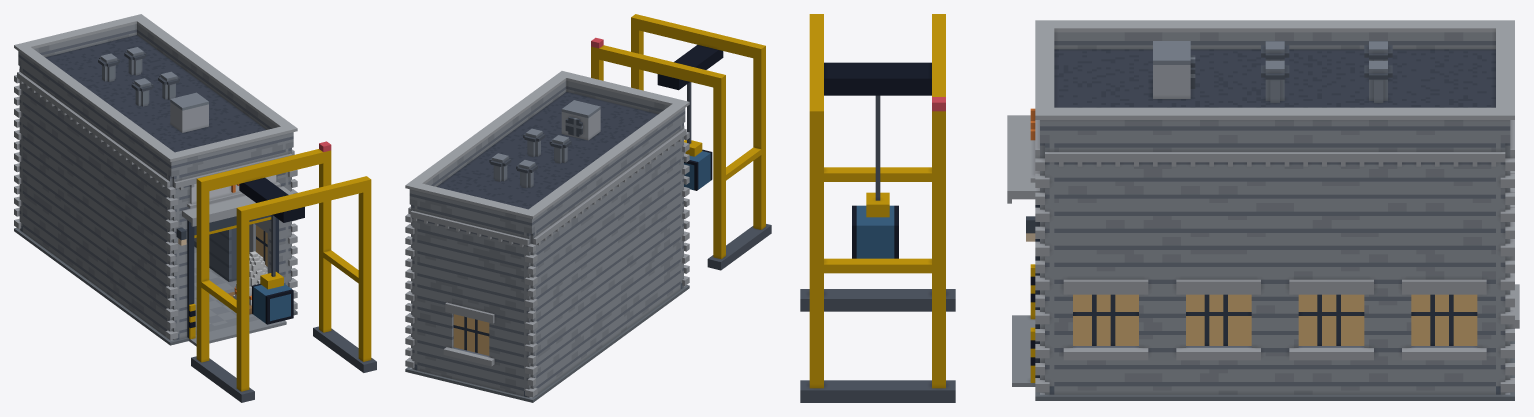
File: workshop_e2_l3.glb
3 views of the same model, side by side, from view 1: azimuth 30°, elevation 25°; view 2: azimuth 150°, elevation 25°; view 3: azimuth 270°, elevation 25° (orthographic). The views are drawn at different scales.
Visible parts, largest first — view 1: Base, CutRoof, CutNX, CutPZ, CutNZ, CutPX; view 2: CutRoof, Base, CutNX, CutNZ, CutPZ; view 3: CutPX, CutRoof, Base, CutPZ, CutNZ.
Boxes of the visible parts, x1,y1,x2,y2 form: Base: (14,141,376,402); CutRoof: (14,14,297,176); CutNX: (17,68,169,311); CutPZ: (165,148,297,317); CutNZ: (14,66,22,206); CutPX: (249,149,294,268); CutRoof: (405,71,689,233); Base: (405,14,771,402); CutNX: (533,125,686,368); CutNZ: (405,205,537,374); CutPZ: (680,123,689,263); CutPX: (1045,143,1505,360); CutRoof: (1035,20,1514,143); Base: (800,14,1514,402); CutPZ: (1007,108,1054,358); CutNZ: (1496,120,1519,358).
Size of the model in its own units: 5.1 by 7.1 by 15.3.
